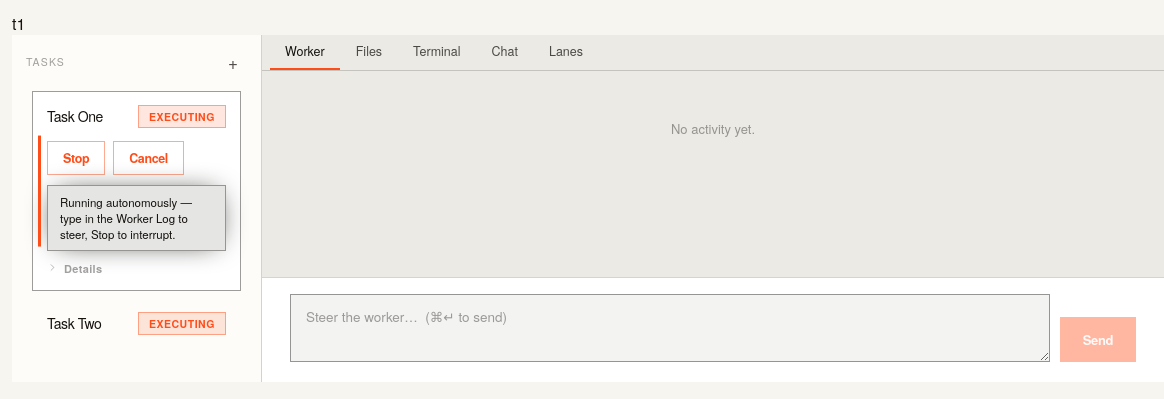
Test case: Lanes row click jumps to its worker / chat / terminal › a worker row selects its task and brings the Worker tab to the front
The image size is (1164, 399).
What coordinates should you click on to do the following:
click the tab "Lanes"
I would click on:
 (566, 52)
Its box is [534, 34, 598, 70].
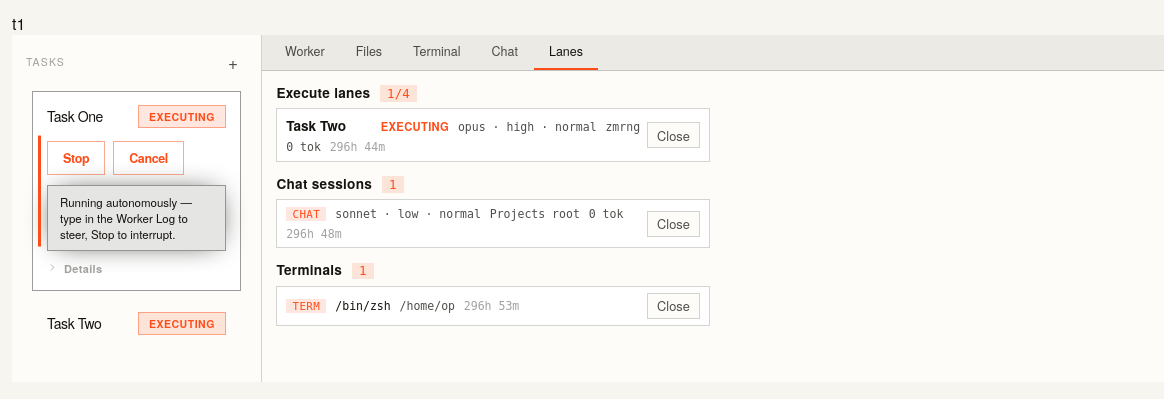
What coordinates should you click on to do the following:
click the button "Task Two"
I would click on:
 (463, 135)
Its box is [286, 116, 640, 154].
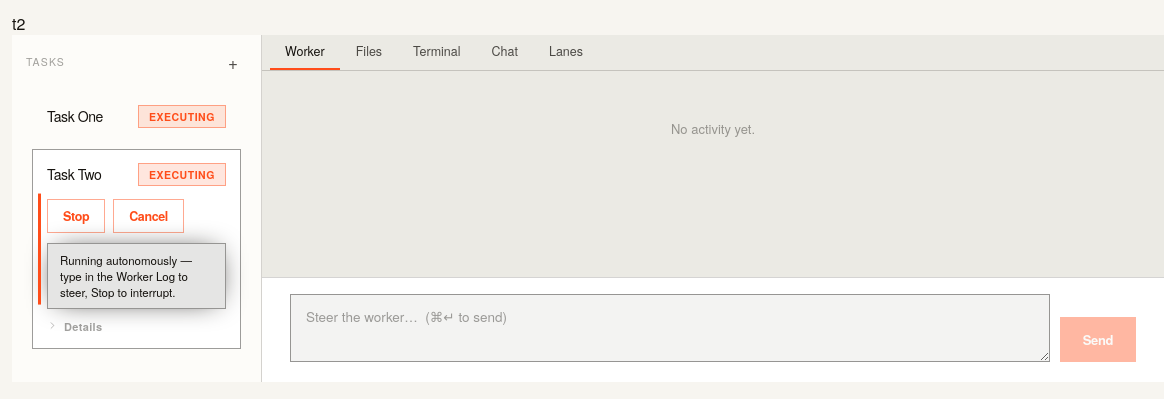
Result: the text with test id "selected" reads "t2" at [12, 12, 25, 35]
